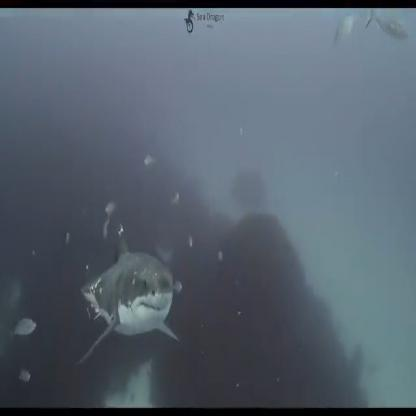white-shark: (78, 223, 180, 370)
